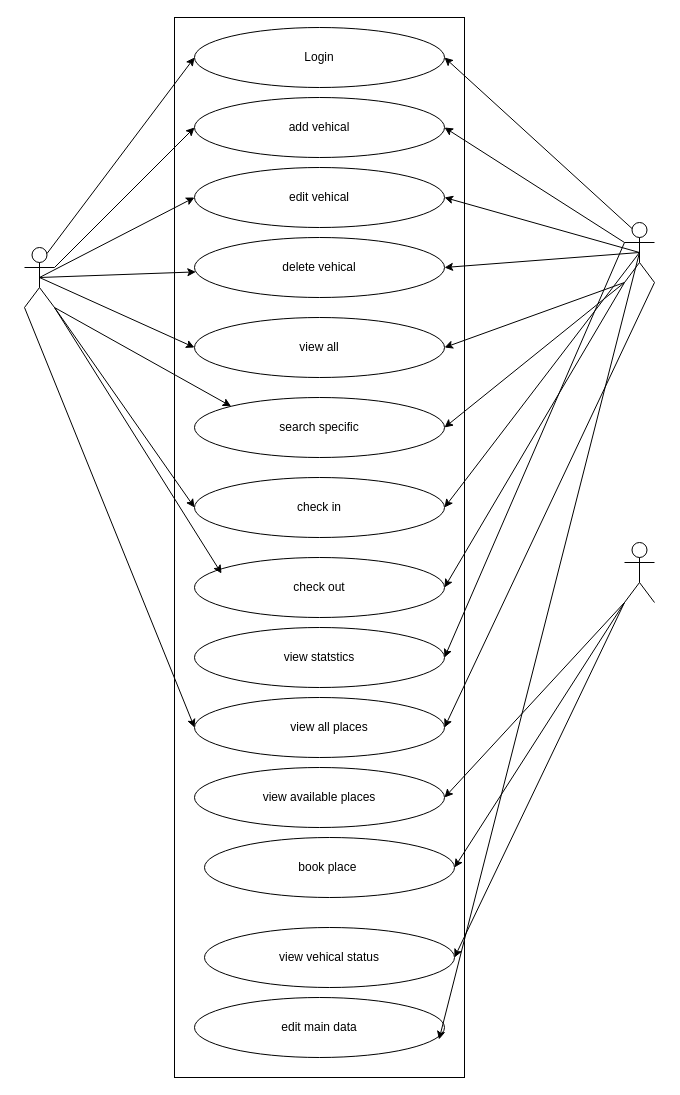
Some shapes in this 680 by 1095 pixel diagram are drawn without their labels. The shapes that lost their labels are listed below. From the top down, each one's centre as x and y in pixels, then its label:
At point (639, 252): "manager".
At point (39, 277): "emplyee".
At point (639, 572): "user".
